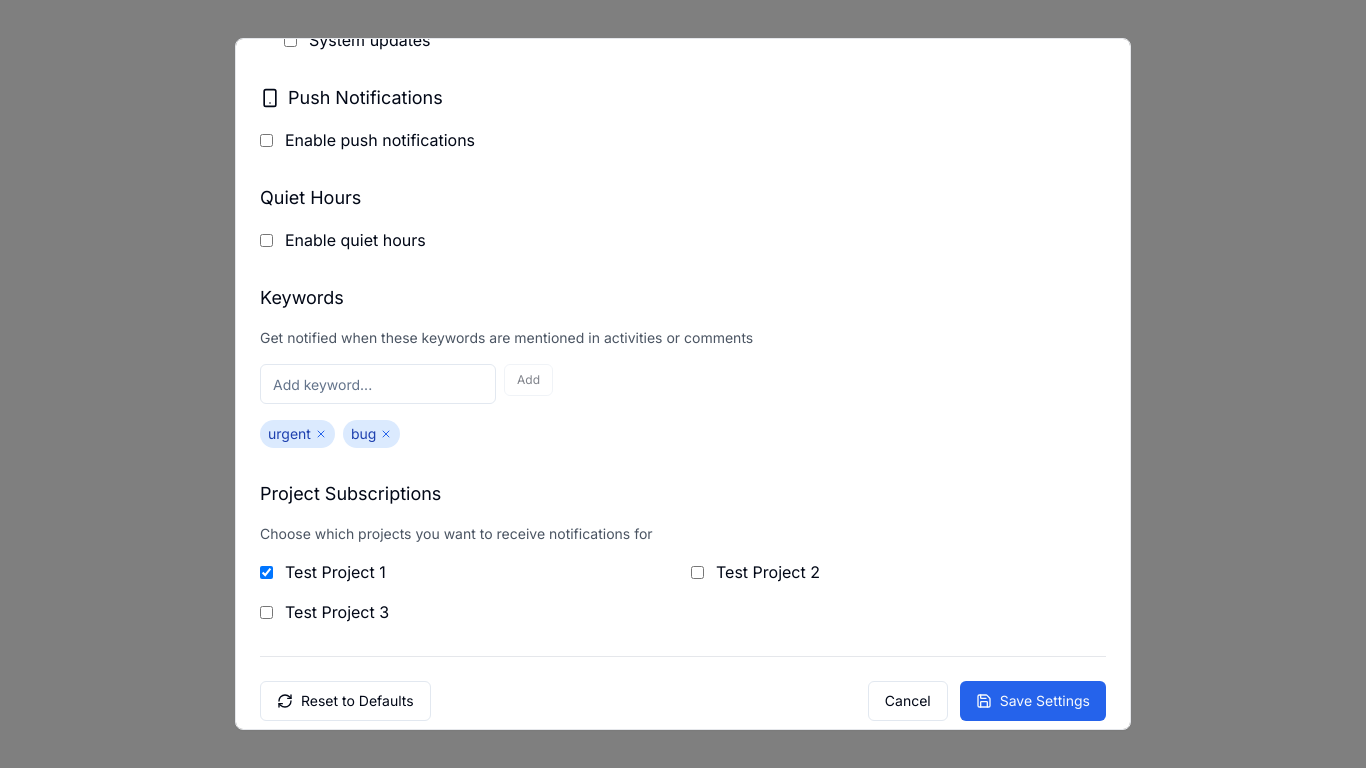
Test: NotificationSettings › adds and removes keywords
The image size is (1366, 768).
(page scrolled)
Check: the text "urgent" is shown, box [268,424,311,444]
Check: the text "bug" is shown, box [351,424,376,444]
Note: Add a new keyword
Step 1. Type "security" into the field with placeholder "Add keyword..." → (378, 384), box [260,364,496,404]
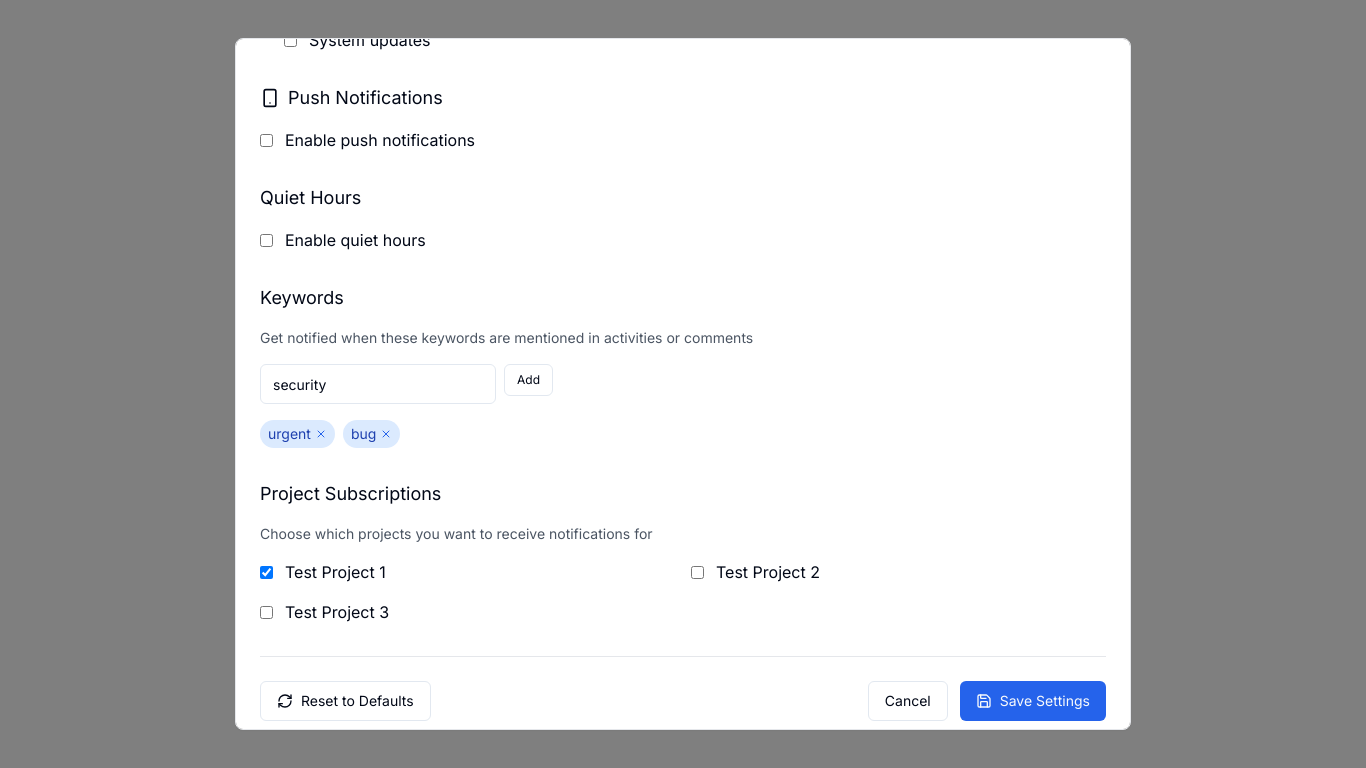
Step 2. Click the button "Add" → (528, 380), box [504,364,553,396]
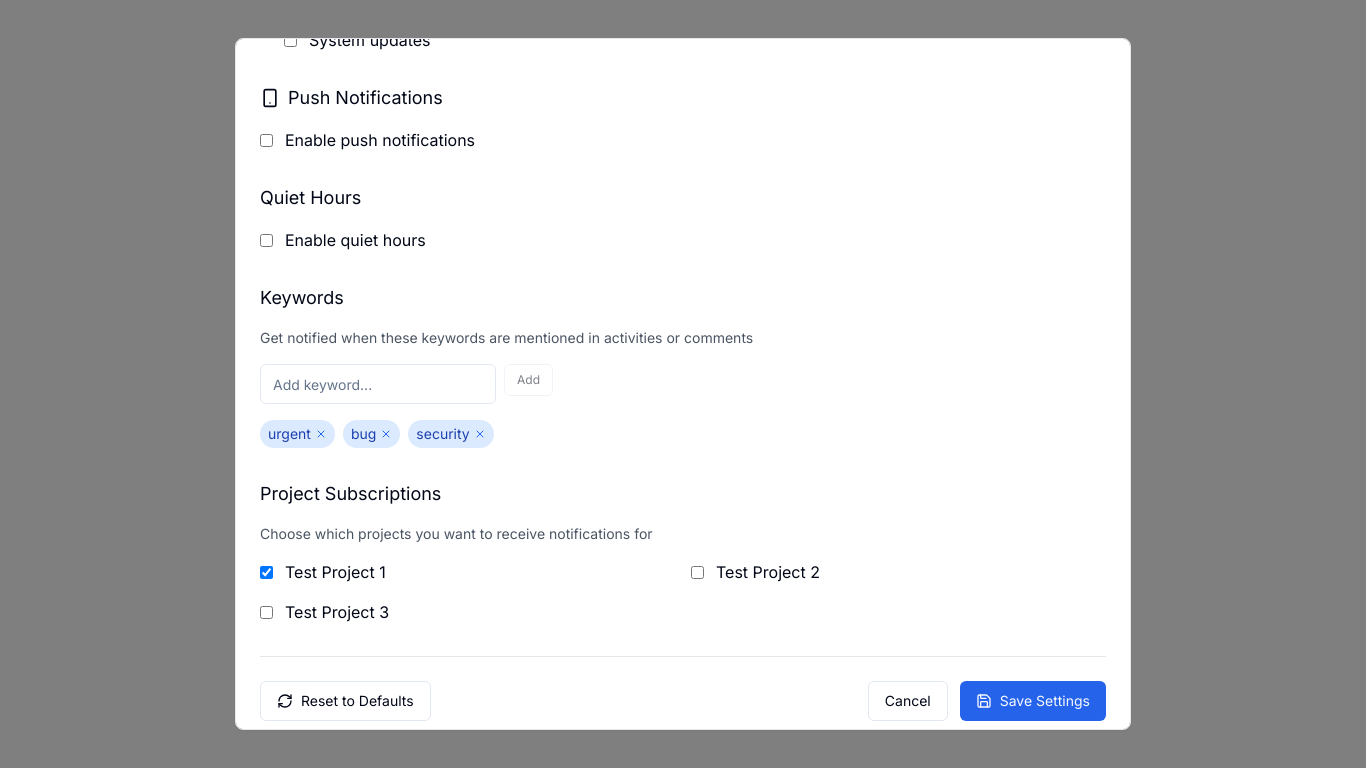
Check: the text "security" is shown, box [416,424,470,444]
Step 3. Click the button without text next to "urgent" → (321, 434), box [315,428,327,440]
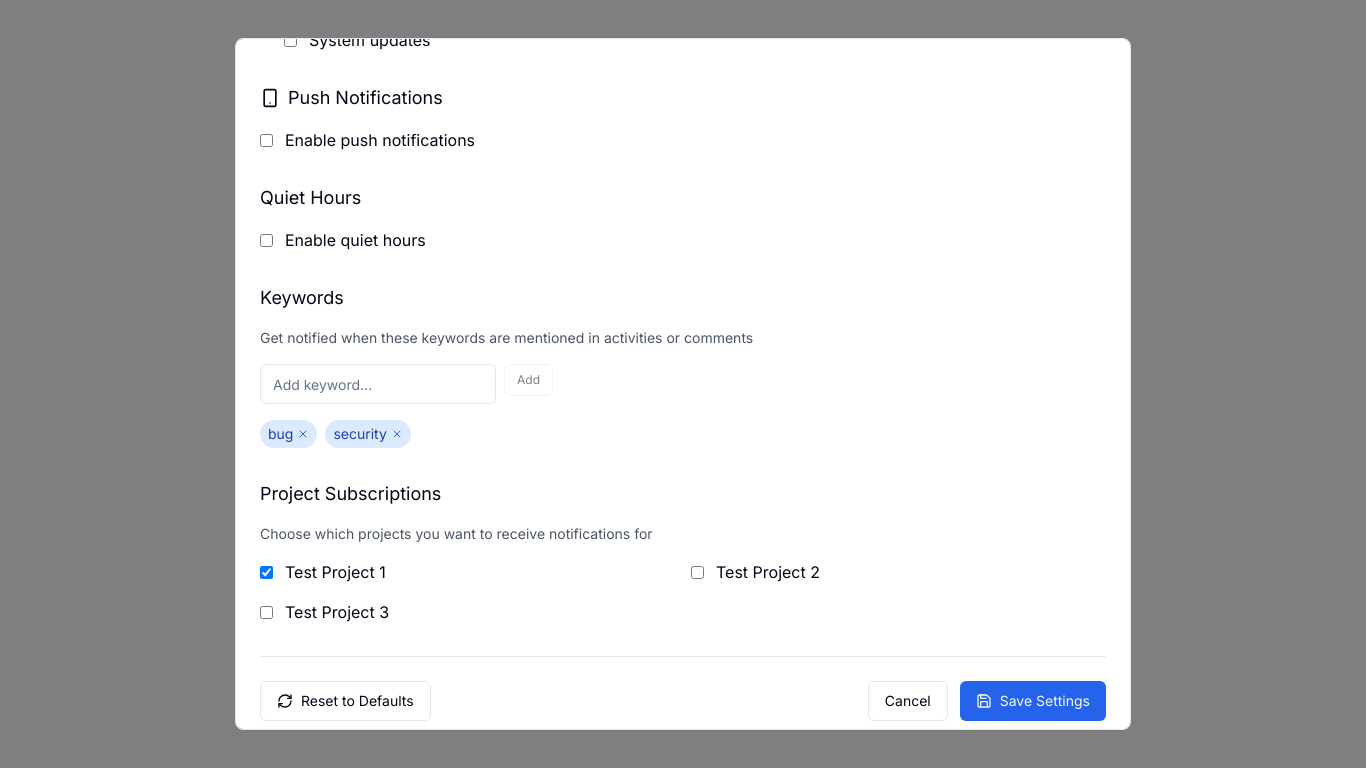
Check: the text "urgent" is gone
